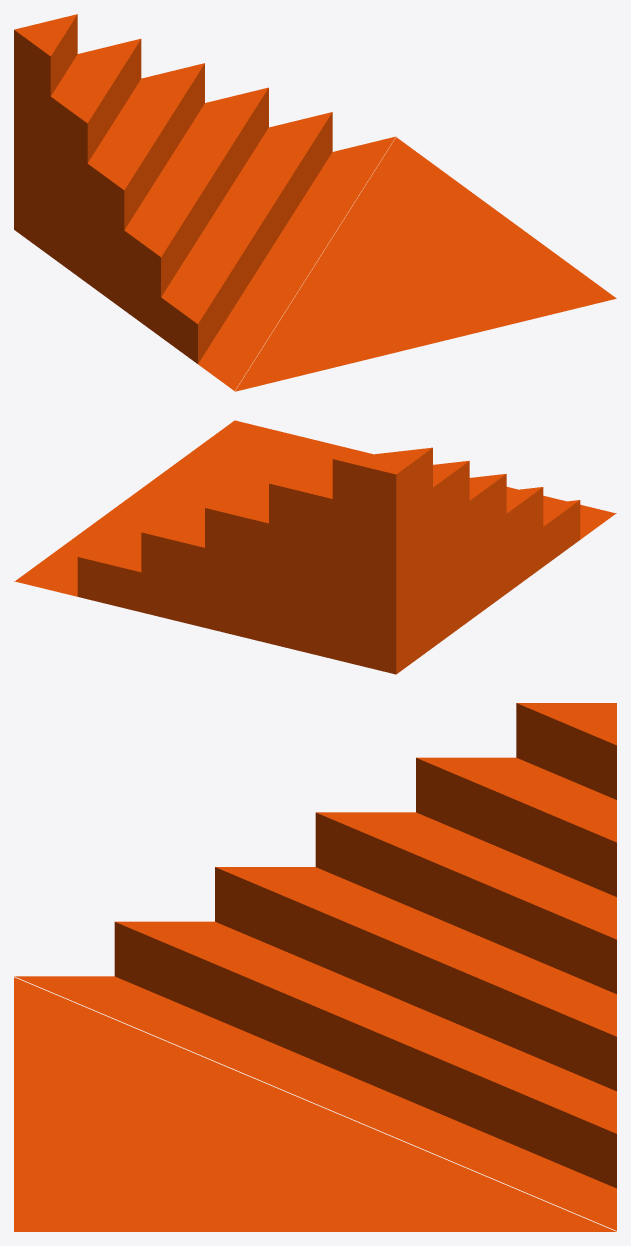
3 renders of one model, top to bottom at view 1: azimuth 30°, elevation 25°; view 2: azimuth 150°, elevation 25°; view 3: azimuth 270°, elevation 25°, orthographic. The views are drawn at different scales.
Visible parts, largest first — view 1: T_2_b_0; view 2: T_2_b_0; view 3: T_2_b_0.
Part boxes in pixels (<box>): T_2_b_0: <box>14,14,616,391</box>; T_2_b_0: <box>14,420,616,674</box>; T_2_b_0: <box>14,703,616,1231</box>.
Size of the model in its own units: 99.79 by 50.06 by 99.81.
